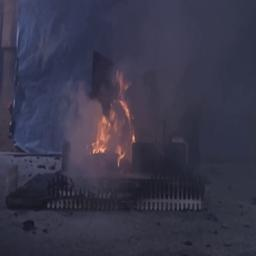fire: (89, 86, 144, 173)
